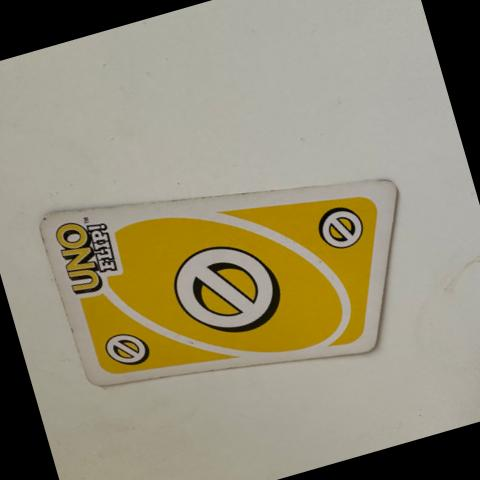lyellowskip-20: (82, 308, 167, 382)
